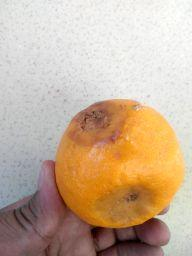Unripe: (54, 101, 183, 229)
